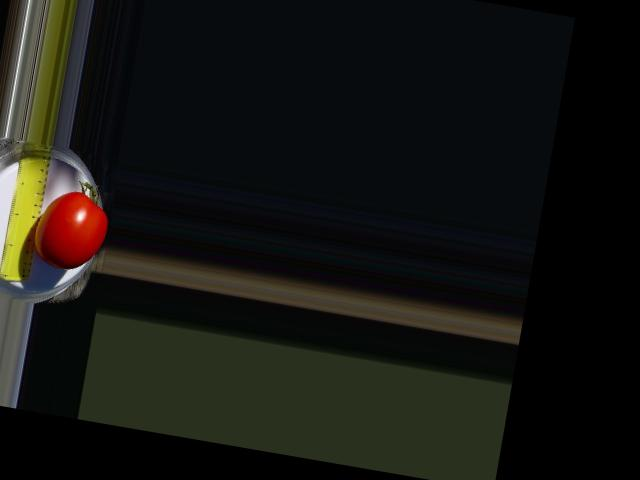tomato: (29, 184, 113, 274)
